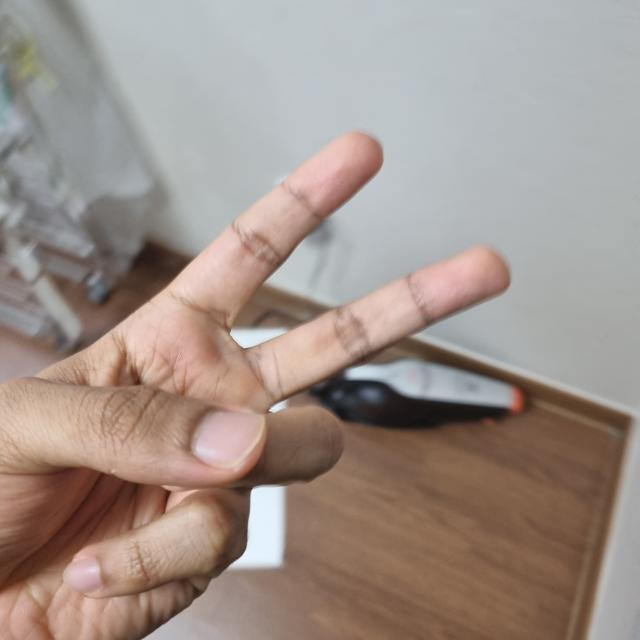Scissors: (0, 129, 637, 639)
